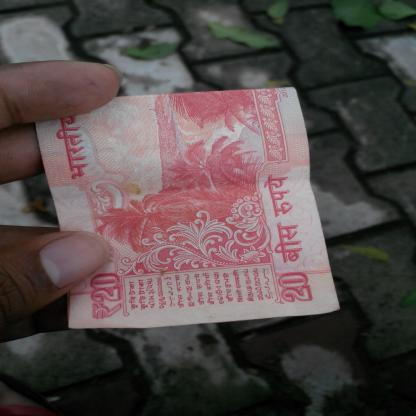Old20Back: (40, 95, 323, 317)
